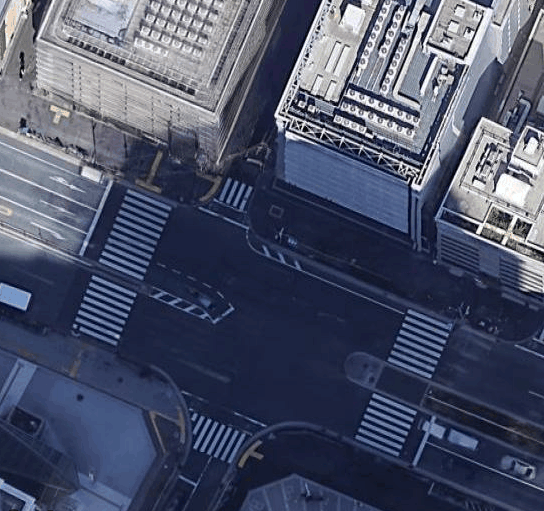facility: (314, 0, 461, 149), (79, 0, 242, 96)
rooftop: (316, 2, 463, 151), (449, 127, 542, 246)
